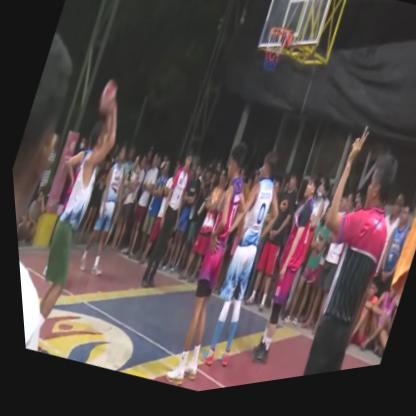basketball: (91, 77, 122, 119)
rim: (250, 27, 296, 89)
